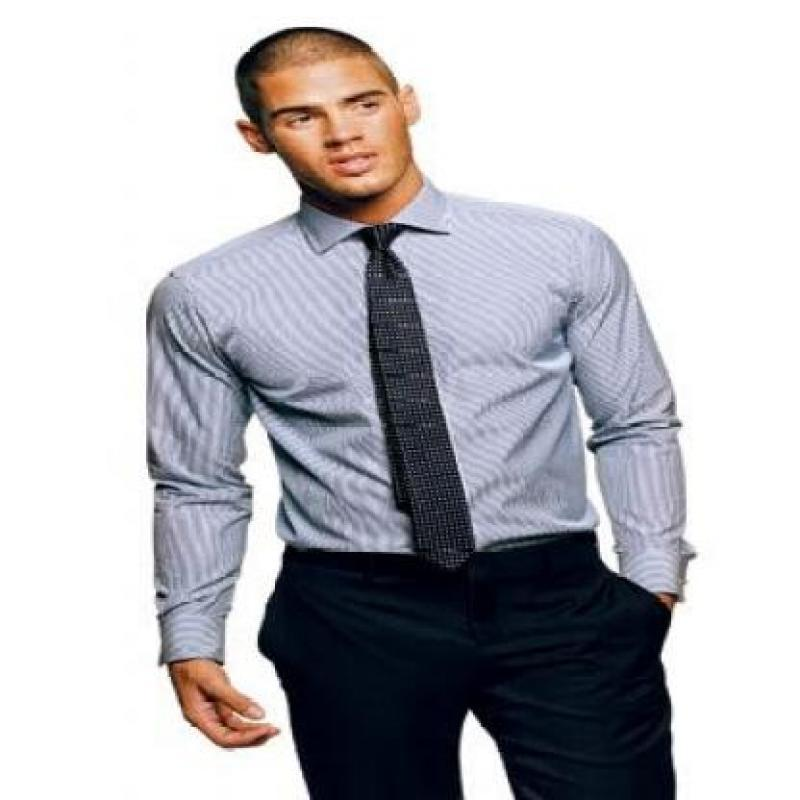long sleeve shirt: (140, 178, 700, 666)
trousers: (256, 540, 680, 800)
